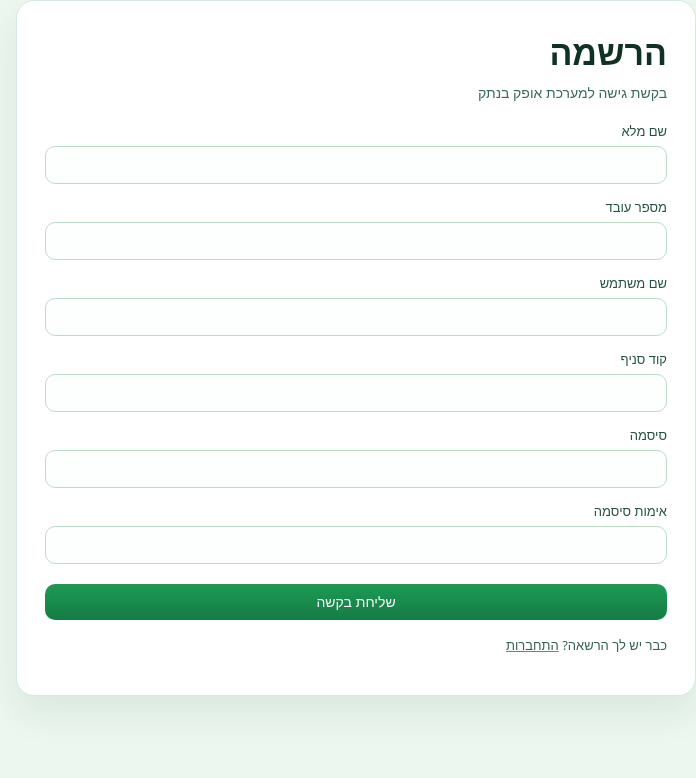
Test: Register › shows mismatch error when passwords differ
In the password field labelled "סיסמה": (356, 469) [45, 450, 667, 488], type "one"
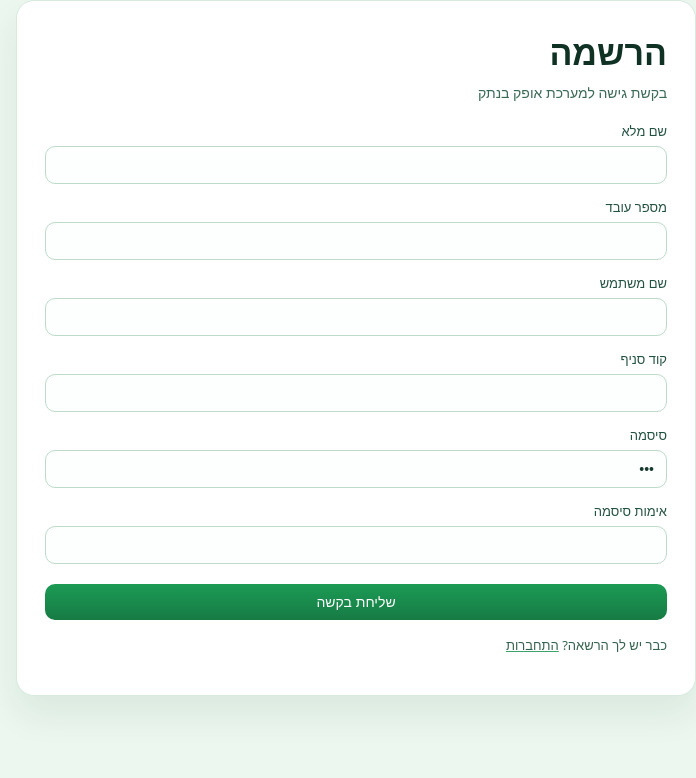
In the password field labelled "אימות סיסמה": (356, 545) [45, 526, 667, 564], type "two"
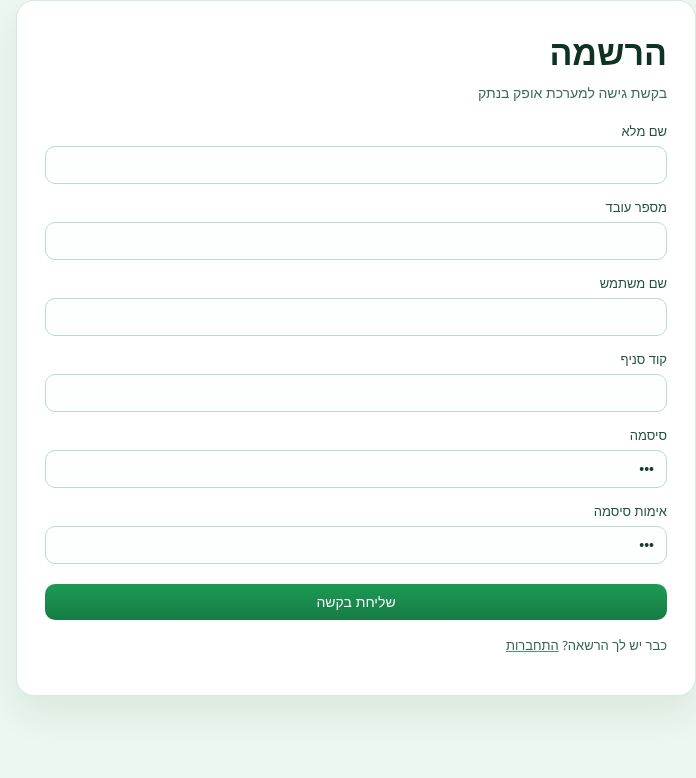
Click the button "שליחת בקשה": (356, 602) [45, 584, 667, 620]
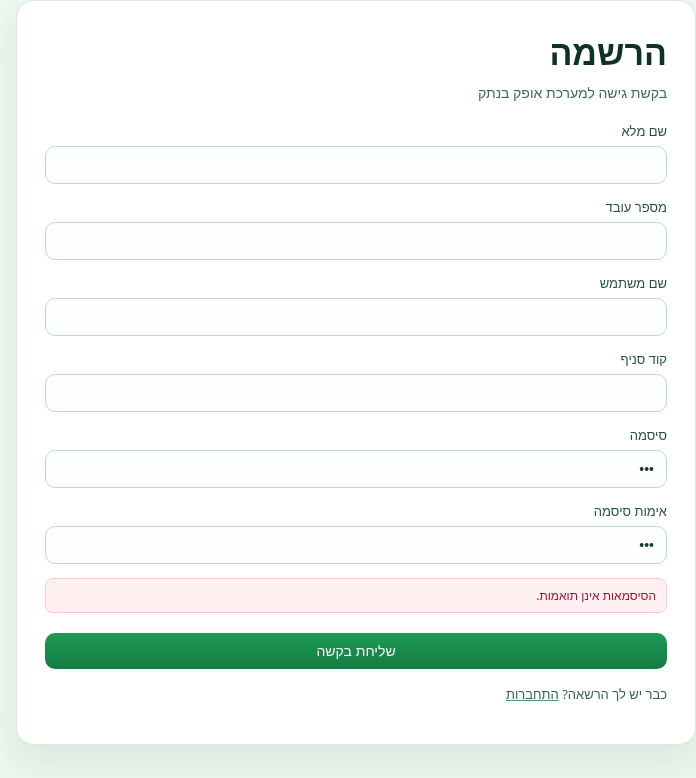
expect the text "הסיסמאות אינן תואמות." is shown: met, box [45, 578, 667, 613]
